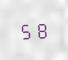eight: (34, 19, 48, 39)
five: (19, 20, 33, 40)
